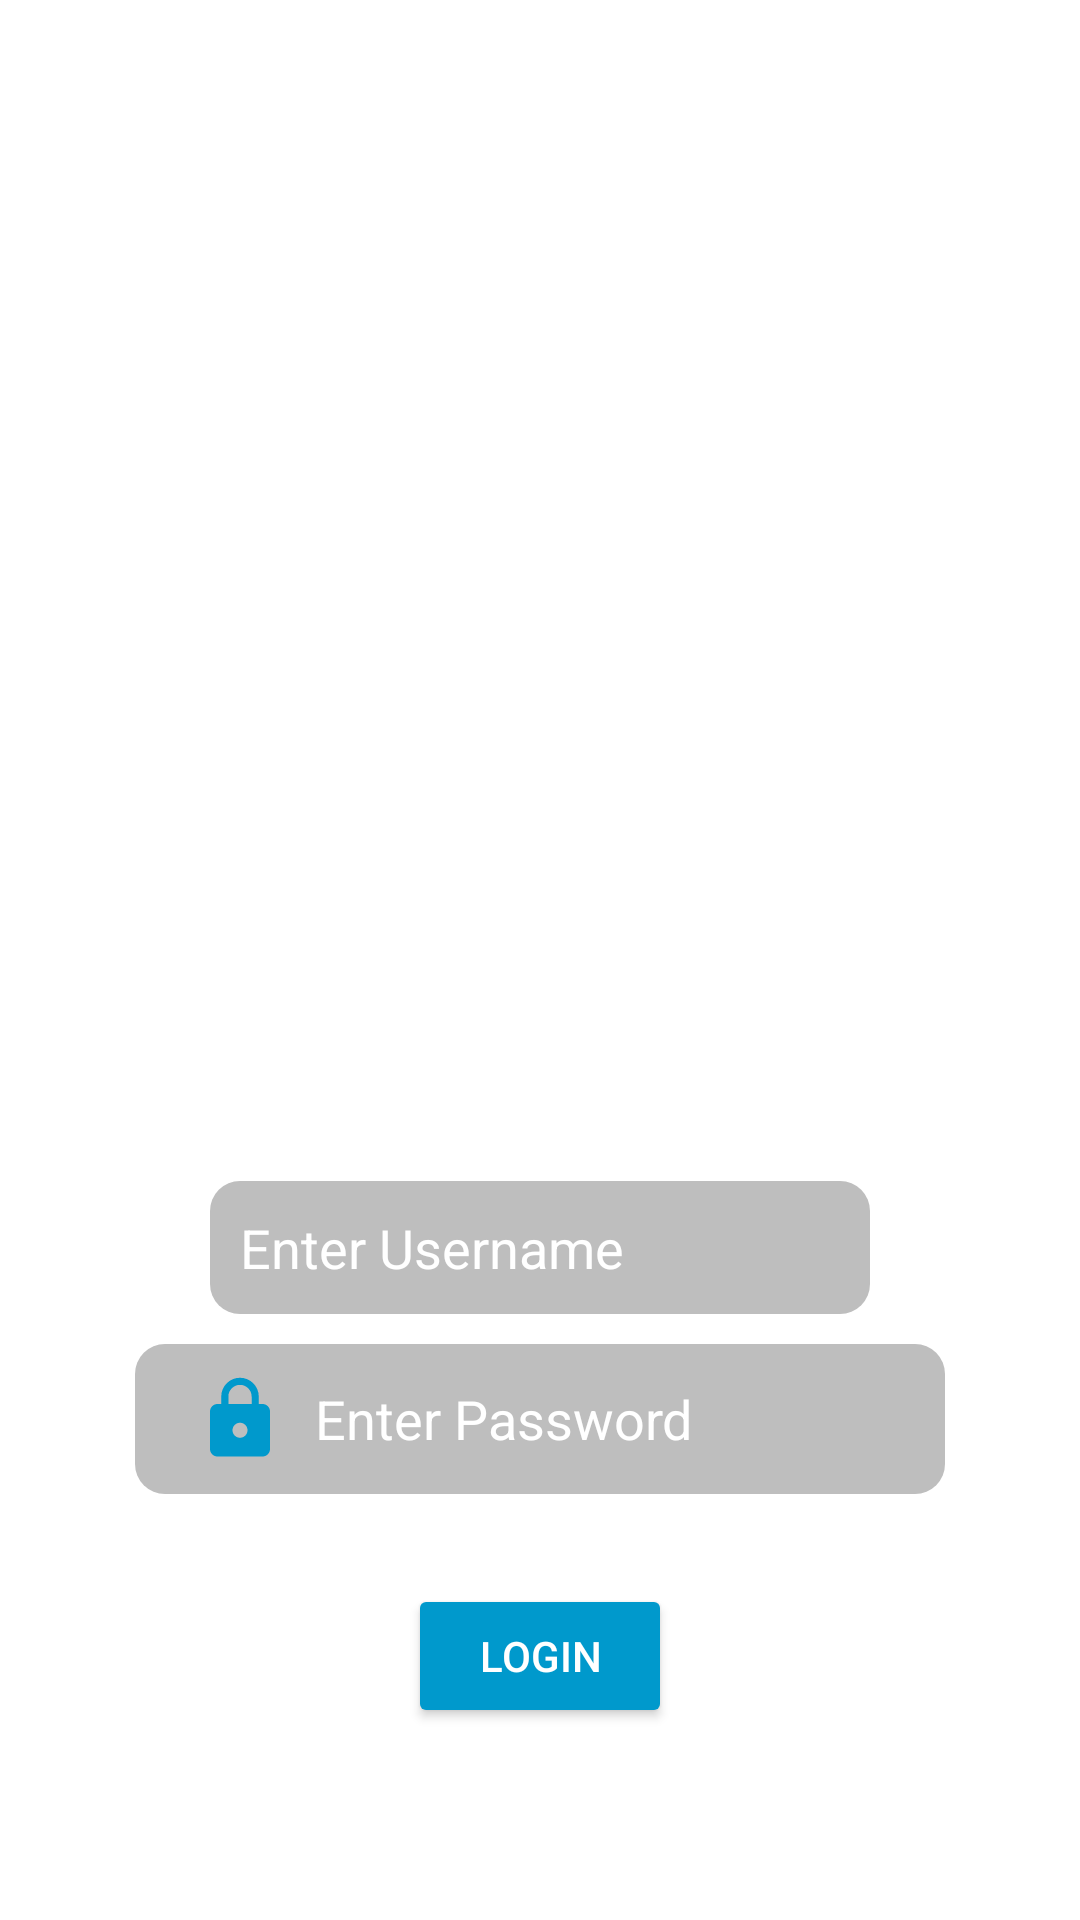

Point at icon controls on the screen. Image size 1080x1920, points as point (x, y).
lock: point (240, 1417)
